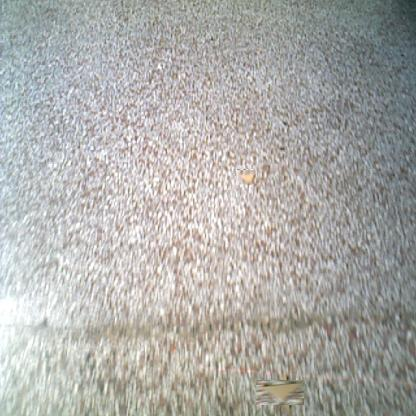dirty: (262, 374, 298, 410), (237, 169, 256, 185)
